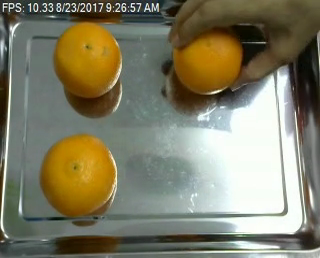Orange: (39, 135, 116, 217), (52, 21, 122, 98)
